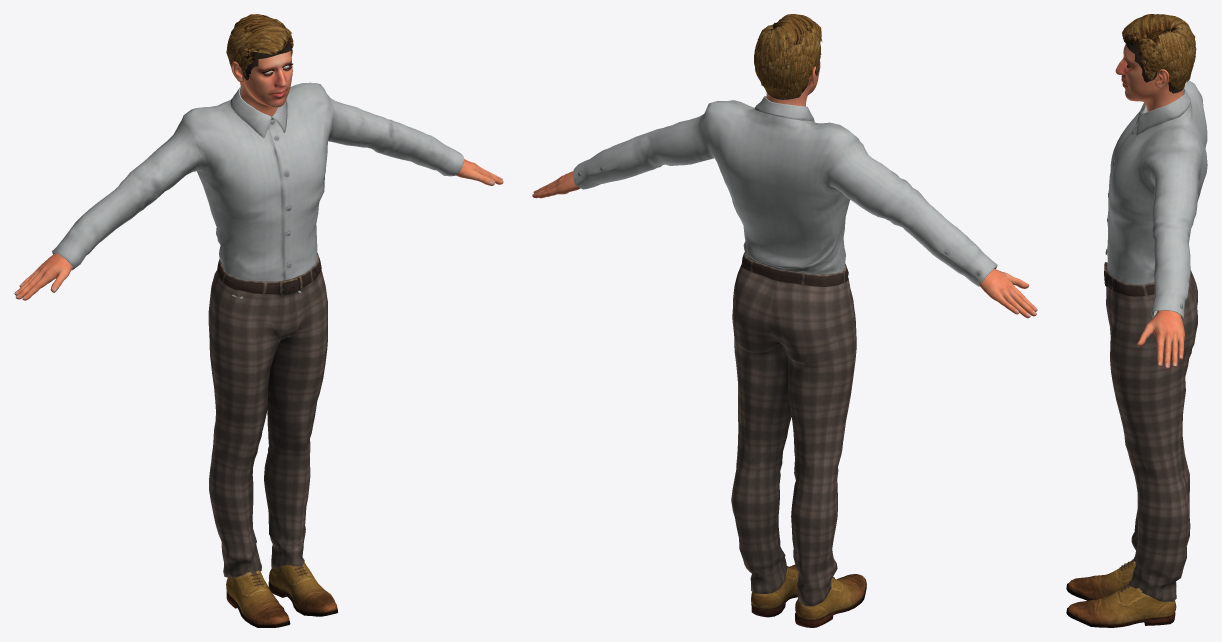
3 renders of one model, left to right at view 1: azimuth 30°, elevation 25°; view 2: azimuth 150°, elevation 25°; view 3: azimuth 270°, elevation 25°, orthographic. The views are drawn at different scales.
Visible parts, largest first — view 1: Business_Shirt_Business_Shirt_0, Slacks_Slacks_0, Leather_shoes_Leather_shoes_0, RL_HairMesh_Classic_Taper_0, 1, 3; view 2: Slacks_Slacks_0, Business_Shirt_Business_Shirt_0, RL_HairMesh_Classic_Taper_0, Leather_shoes_Leather_shoes_0, 3; view 3: Slacks_Slacks_0, Business_Shirt_Business_Shirt_0, Leather_shoes_Leather_shoes_0, RL_HairMesh_Classic_Taper_0, 1, 3, RL_HairMesh_Classic_Taper_Scalp_0.
Part boxes in pixels (x1,y1,x2,y2): Business_Shirt_Business_Shirt_0: [52, 82, 464, 298]; Slacks_Slacks_0: [208, 253, 327, 577]; Leather_shoes_Leather_shoes_0: [226, 560, 337, 627]; RL_HairMesh_Classic_Taper_0: [226, 14, 293, 76]; 1: [231, 51, 292, 116]; 3: [14, 159, 503, 300]; Slacks_Slacks_0: [731, 252, 856, 606]; Business_Shirt_Business_Shirt_0: [573, 96, 997, 286]; RL_HairMesh_Classic_Taper_0: [754, 14, 822, 98]; Leather_shoes_Leather_shoes_0: [751, 564, 866, 627]; 3: [532, 171, 1037, 318]; Slacks_Slacks_0: [1104, 262, 1197, 601]; Business_Shirt_Business_Shirt_0: [1105, 80, 1207, 319]; Leather_shoes_Leather_shoes_0: [1066, 559, 1176, 627]; RL_HairMesh_Classic_Taper_0: [1122, 14, 1196, 89]; 1: [1115, 43, 1183, 111]; 3: [1137, 310, 1184, 368]; RL_HairMesh_Classic_Taper_Scalp_0: [1126, 43, 1183, 93].
Bounding box in the file's own units: 1.51 × 1.71 × 0.3703.
22 materials, 22 textured.
